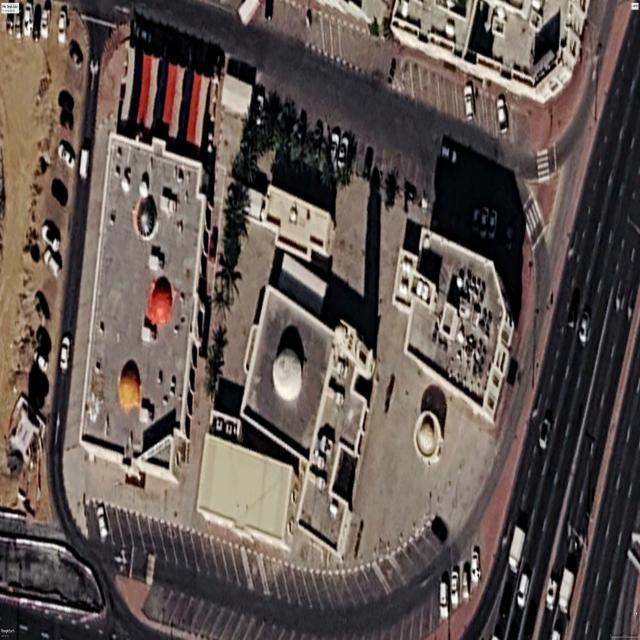mosque: (240, 285, 375, 558)
